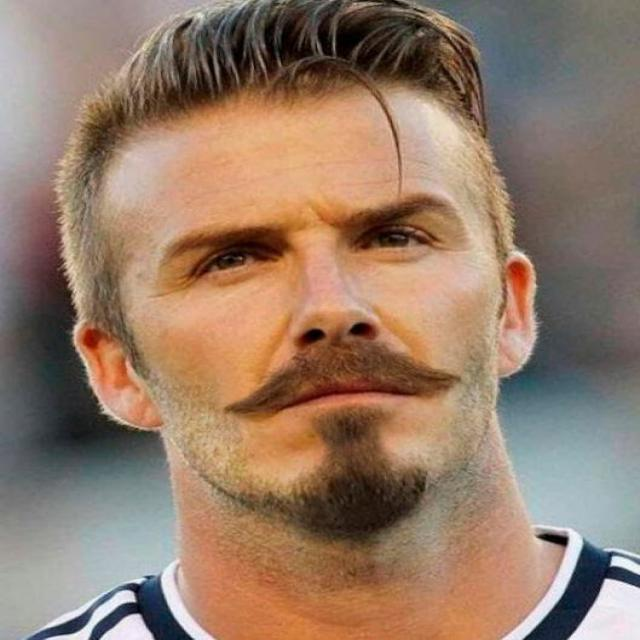beard: (198, 408, 428, 539), (225, 343, 461, 417)
hair: (56, 0, 517, 336)
